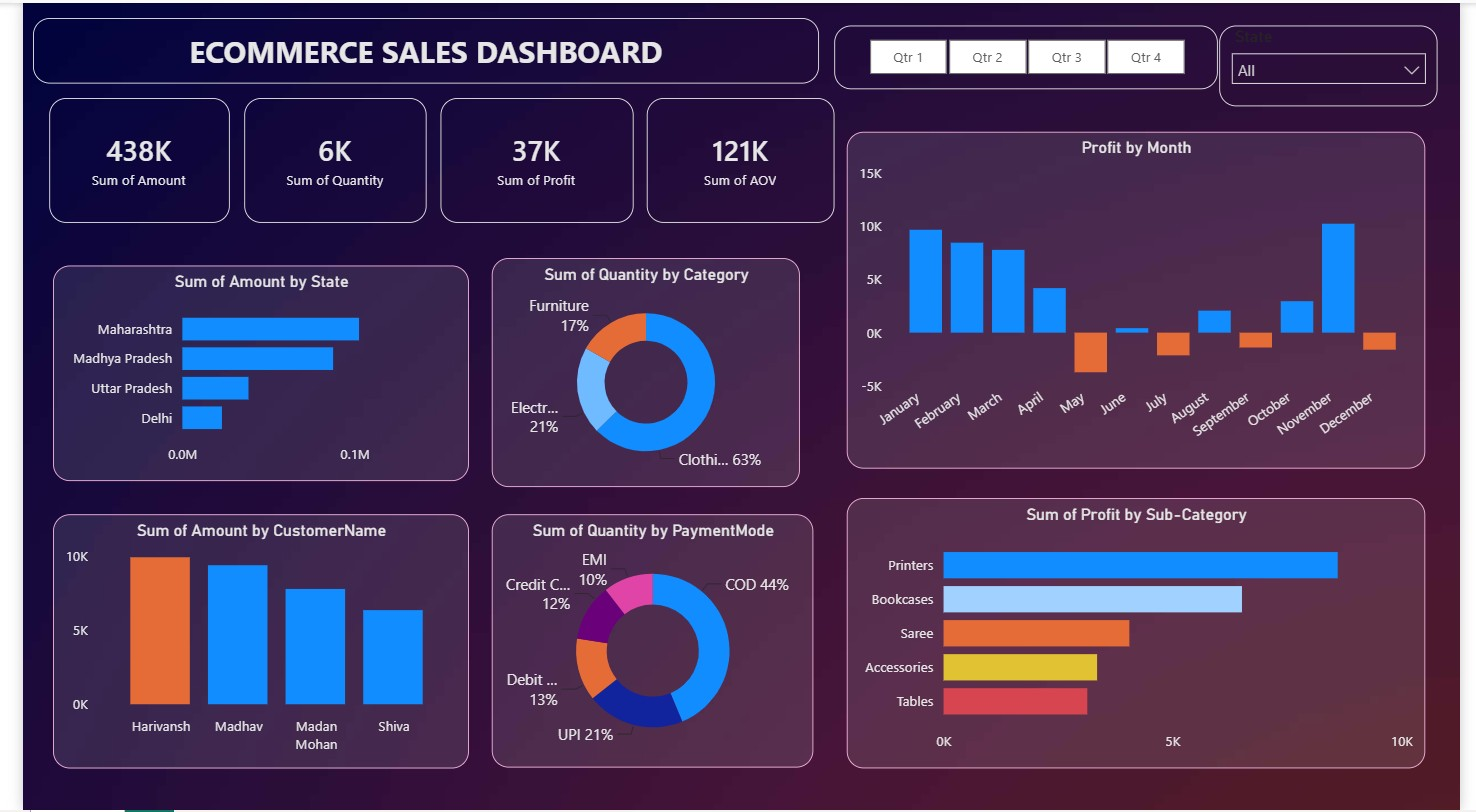

Layout of this report page (visuals, bound fields, positions):
{"tool":"powerbi","page":{"name":"Page 1","canvas":[1280,720],"ordinal":0},"visuals":[{"type":"textbox","box":[9.5,13.5,700,58.1],"z":0},{"type":"columnChart","title":"Profit by Month","fields":{"Y":["Sum(Details.Profit)"],"Category":["Orders.Order Date.Variation.Date Hierarchy.Month"]},"box":[733.8,114.9,514.9,300],"z":1000},{"type":"barChart","fields":{"Category":["Details.Sub-Category"],"Y":["Sum(Details.Profit)"]},"box":[733.8,440.5,514.9,240.5],"z":2000},{"type":"donutChart","fields":{"Category":["Details.Category"],"Y":["Sum(Details.Quantity)"]},"box":[417.6,227,274.3,204.1],"z":3000},{"type":"donutChart","fields":{"Category":["Details.PaymentMode"],"Y":["Sum(Details.Quantity)"]},"box":[417.6,455.4,286.5,225.7],"z":4000},{"type":"cardVisual","fields":{"Data":["Sum(Details.Amount)"]},"box":[23,85.1,160.8,110.8],"z":5000},{"type":"cardVisual","fields":{"Data":["Sum(Details.Quantity)"]},"box":[197.3,85.1,162.2,110.8],"z":6000},{"type":"cardVisual","fields":{"Data":["Sum(Details.Profit)"]},"box":[371.6,85.1,171.6,110.8],"z":7000},{"type":"cardVisual","fields":{"Data":["Sum(Details.AOV)"]},"box":[555.4,85.1,167.6,110.8],"z":8000},{"type":"barChart","fields":{"Category":["Orders.State"],"Y":["Sum(Details.Amount)"]},"box":[27,233.8,370.3,191.9],"z":9000},{"type":"columnChart","fields":{"Category":["Orders.CustomerName"],"Y":["Sum(Details.Amount)"]},"box":[27,455,370,226],"z":9001},{"type":"slicer","fields":{"Values":["Orders.Order Date.Variation.Date Hierarchy.Quarter"]},"box":[723,20.3,341.9,56.8],"z":9002},{"type":"slicer","fields":{"Values":["Orders.State"]},"box":[1064.9,20.3,194.6,71.6],"z":9003}]}

Visuals, with their boxes in screenshot pixels (x1, y1, x2, y2), scaled from the page's 1280x720 canvas onto the 1476x812 screenshot:
textbox: 11, 15, 818, 81
"Profit by Month" columnChart: 846, 130, 1440, 468
barChart - Details.Sub-Category x Sum(Details.Profit): 846, 497, 1440, 768
donutChart - Details.Category x Sum(Details.Quantity): 482, 256, 798, 486
donutChart - Details.PaymentMode x Sum(Details.Quantity): 482, 514, 812, 768
cardVisual - Sum(Details.Amount): 27, 96, 212, 221
cardVisual - Sum(Details.Quantity): 228, 96, 415, 221
cardVisual - Sum(Details.Profit): 429, 96, 626, 221
cardVisual - Sum(Details.AOV): 640, 96, 834, 221
barChart - Orders.State x Sum(Details.Amount): 31, 264, 458, 480
columnChart - Orders.CustomerName x Sum(Details.Amount): 31, 513, 458, 768
slicer - Orders.Order Date.Variation.Date Hierarchy.Quarter: 834, 23, 1228, 87
slicer - Orders.State: 1228, 23, 1452, 104
